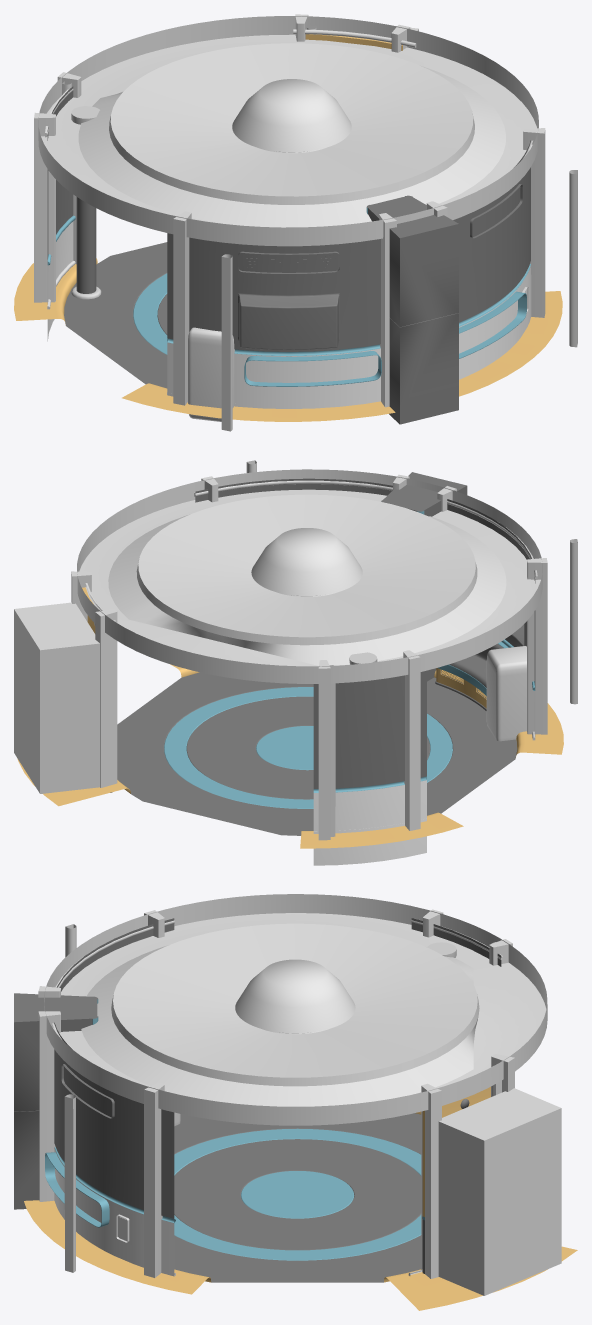
The model's file is Hall.fbx.
The picture shows the model from 3 angles, top to bottom: view 1: azimuth 30°, elevation 25°; view 2: azimuth 150°, elevation 25°; view 3: azimuth 270°, elevation 25°; orthographic projection. The views are drawn at different scales.
Visible parts, largest first — view 1: LowerLVL042, Wall_round, Cylinder023, Cylinder055, Box005, Object058, Box024, Box020, Box072, Box019, Box034, Cylinder054 (+7 smaller); view 2: LowerLVL042, Cylinder055, Cylinder023, Wall_round, Box060, Box072, Box020, Box021, Box024, Box023, Box005, Box035 (+4 smaller); view 3: LowerLVL042, Cylinder055, Cylinder023, Box060, Wall_round, Box005, Box019, Box022, Box040, Box006, Box034, Box058 (+2 smaller).
Part boxes in pixels (x1,y1,x2,y2): LowerLVL042: [78, 43, 505, 227]; Wall_round: [47, 86, 531, 408]; Cylinder023: [38, 16, 538, 246]; Cylinder055: [14, 242, 562, 421]; Box005: [366, 195, 458, 424]; Object058: [238, 294, 339, 349]; Box024: [34, 112, 55, 302]; Box020: [173, 211, 191, 405]; Box072: [188, 327, 234, 421]; Box019: [523, 128, 545, 317]; Box034: [244, 291, 526, 386]; Cylinder054: [71, 106, 101, 299]; LowerLVL042: [108, 494, 506, 665]; Cylinder055: [17, 664, 563, 848]; Cylinder023: [77, 469, 542, 683]; Wall_round: [195, 478, 535, 865]; Box060: [14, 602, 99, 793]; Box072: [486, 646, 526, 741]; Box020: [527, 558, 547, 734]; Box021: [95, 609, 117, 787]; Box024: [403, 650, 420, 830]; Box023: [318, 660, 330, 840]; Box005: [381, 472, 467, 681]; Box035: [435, 655, 486, 710]; LowerLVL042: [81, 923, 479, 1106]; Cylinder055: [24, 1111, 577, 1310]; Cylinder023: [44, 894, 547, 1125]; Box060: [438, 1088, 561, 1295]; Wall_round: [54, 918, 501, 1276]; Box005: [14, 993, 98, 1209]; Box019: [144, 1082, 164, 1277]; Box022: [421, 1083, 441, 1278]; Box040: [38, 1011, 60, 1201]; Box006: [64, 1094, 75, 1272]; Box034: [45, 1152, 109, 1227]; Box058: [422, 1086, 490, 1273].
Bounding box in the file's own units: 955 × 478 × 981.
